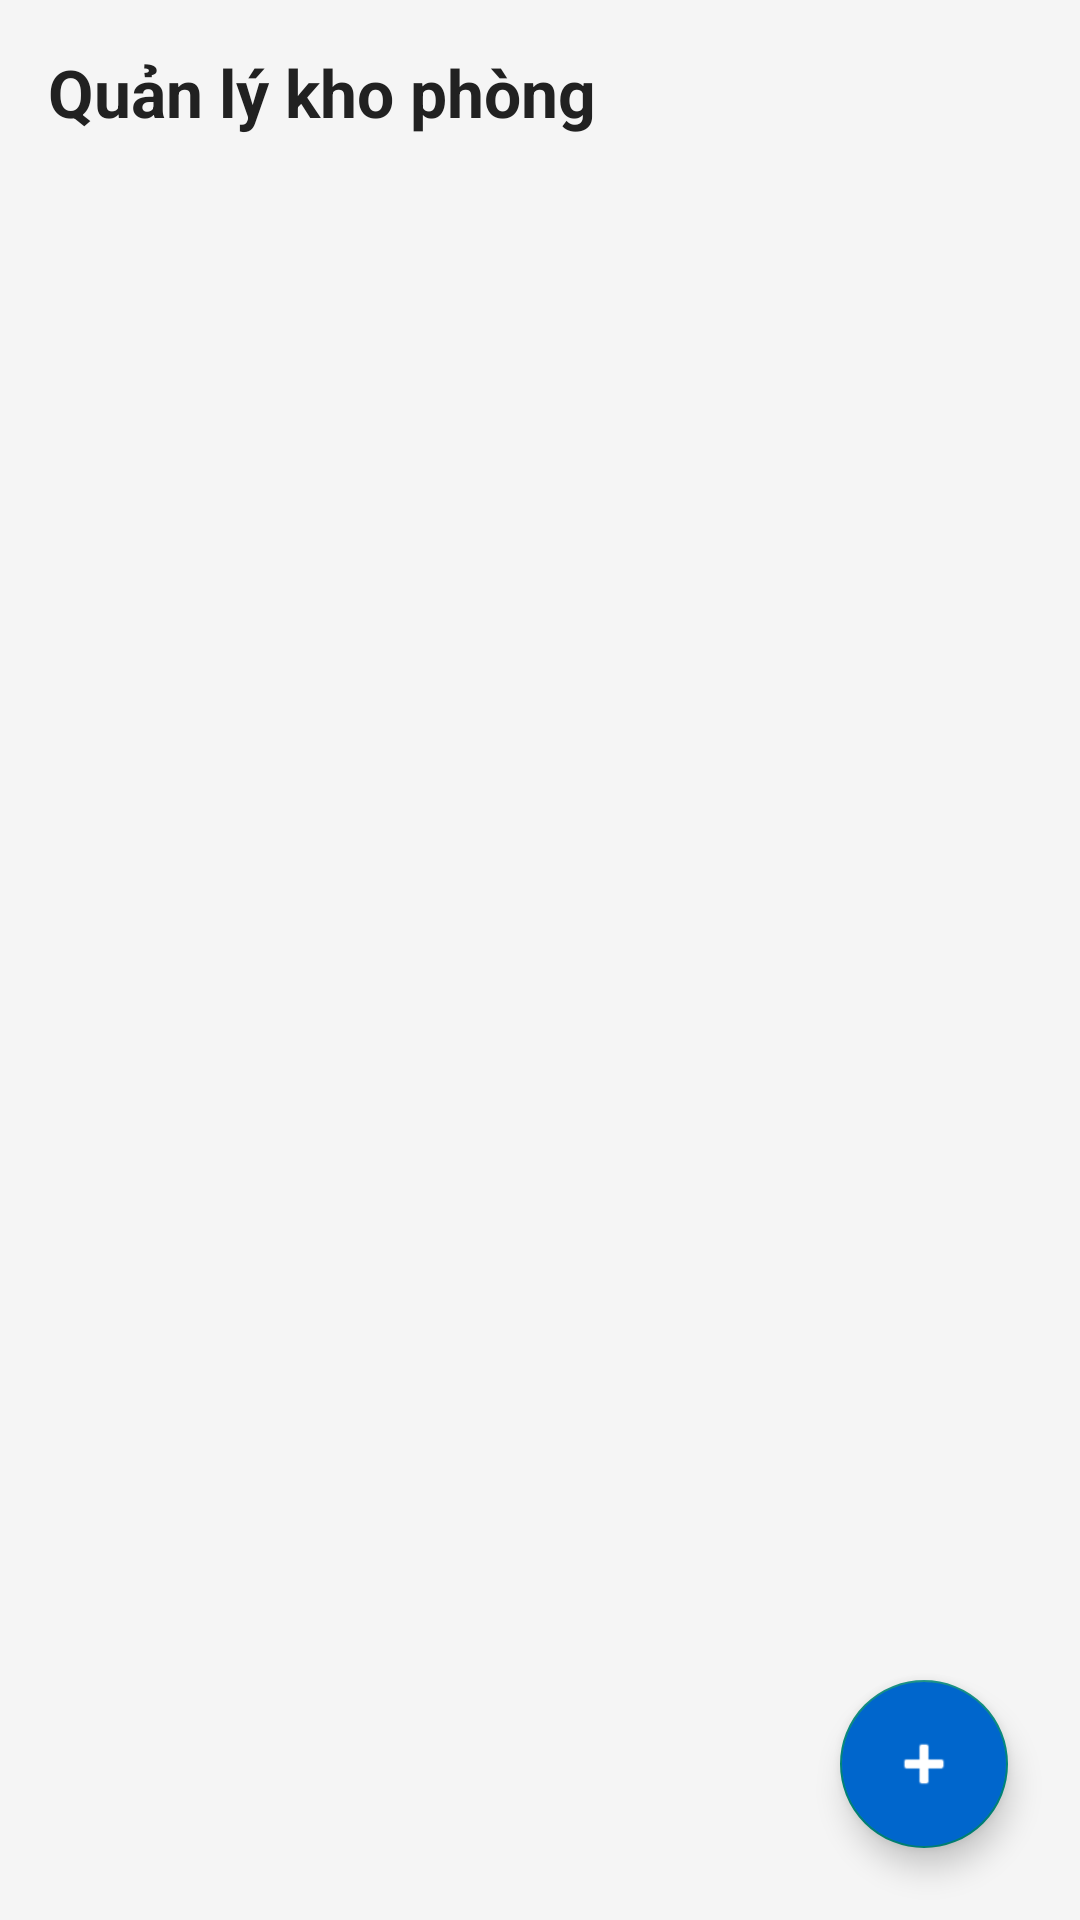

Icon click points for this 1080×1920 phone screenshot, format (x=x, y=y):
Thêm phòng mới: (x=924, y=1764)
